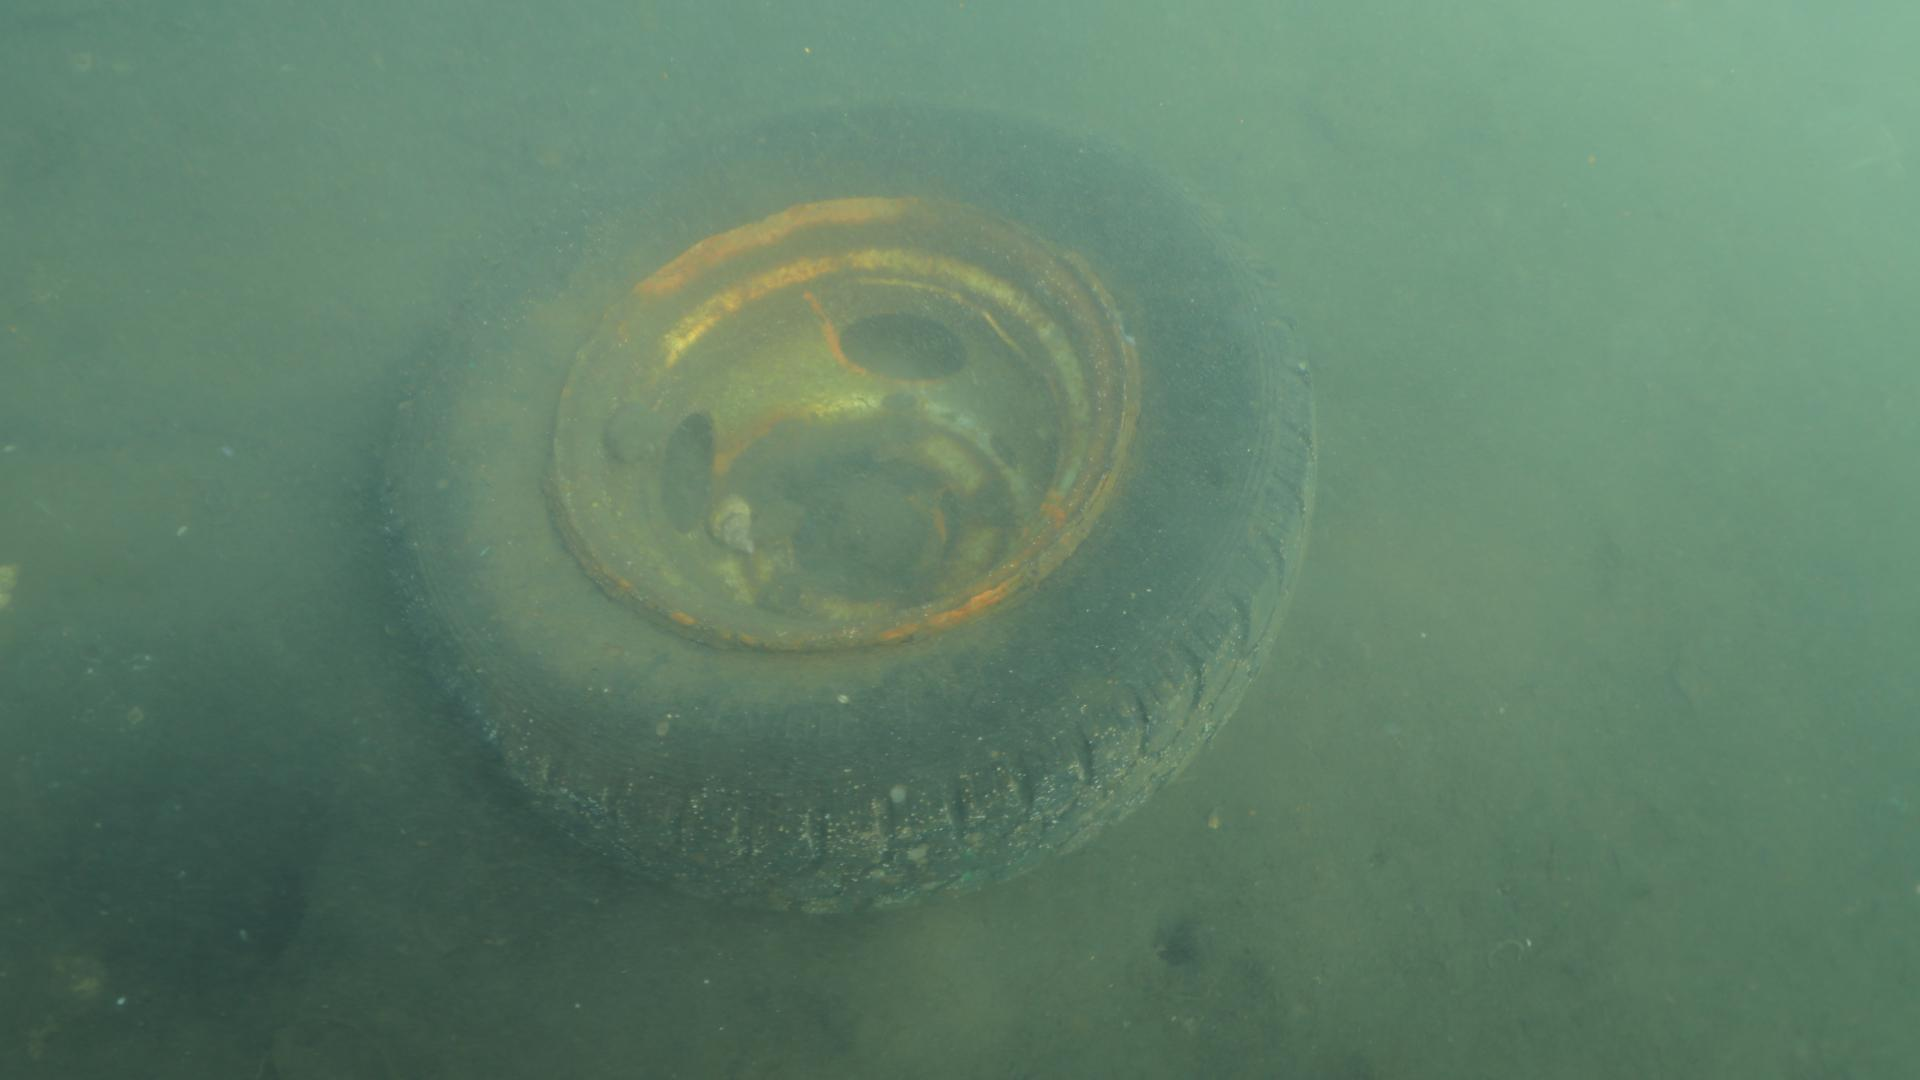tire: (378, 92, 1320, 909)
